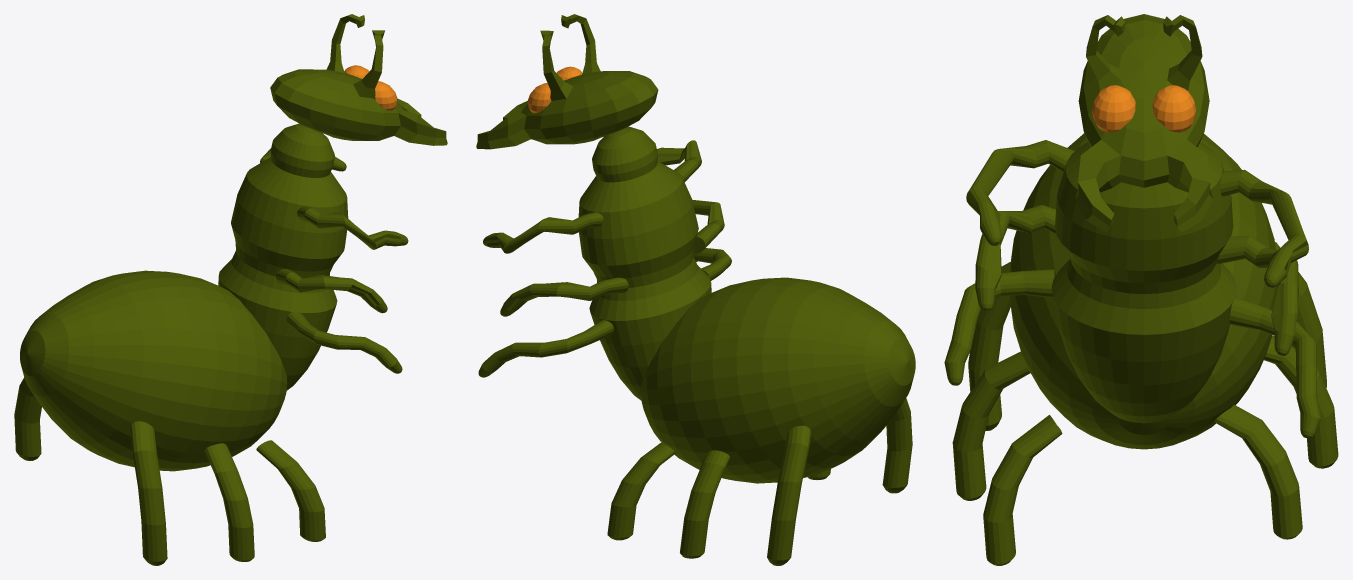
The model's file is bugQueen.fbx.
3 renders of one model, left to right at view 1: azimuth 30°, elevation 25°; view 2: azimuth 150°, elevation 25°; view 3: azimuth 270°, elevation 25°, orthographic. The views are drawn at different scales.
Parts seen in each view (by area): view 1: Body, Legs, Head, Hands; view 2: Body, Legs, Head, Hands; view 3: Body, Head, Legs, Hands.
Part boxes in pixels (x1,y1,x2,y2): Body: (20,123,348,471); Legs: (14,377,325,565); Head: (270,14,447,145); Hands: (260,148,408,373); Body: (578,126,915,483); Legs: (607,398,912,565); Head: (476,14,658,149); Hands: (478,140,731,377); Body: (1010,133,1277,449); Head: (1075,14,1213,232); Legs: (952,242,1338,565); Hands: (944,140,1320,438).
Size of the model in its own units: 192 by 204 by 118.
